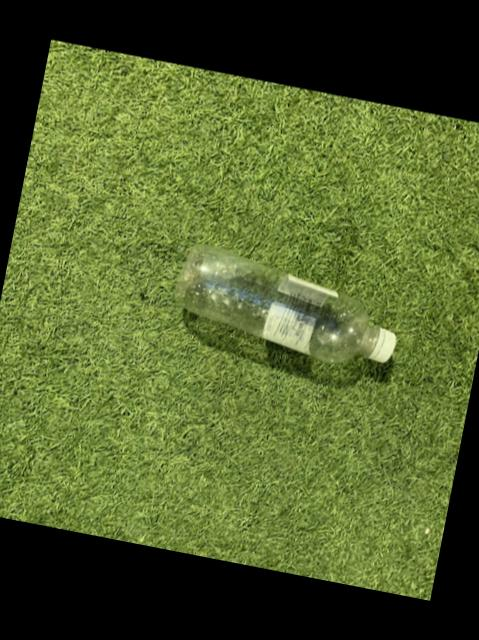plastic: (176, 243, 396, 361)
